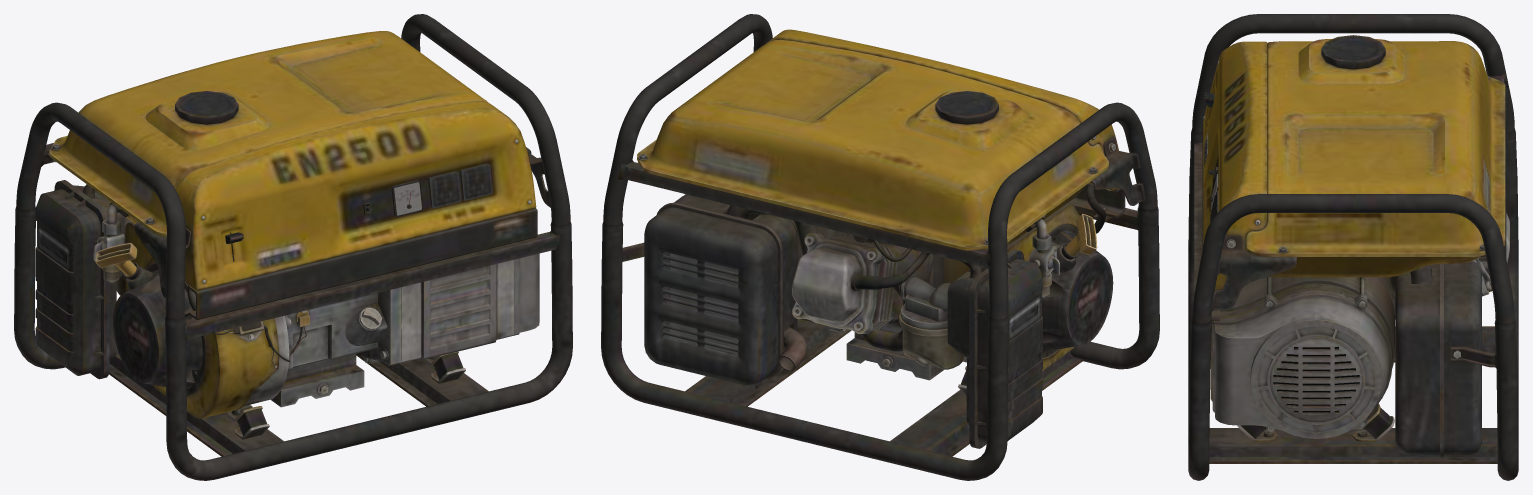
The picture shows the model from 3 angles, left to right: view 1: azimuth 30°, elevation 25°; view 2: azimuth 150°, elevation 25°; view 3: azimuth 270°, elevation 25°; orthographic projection.
Parts seen in each view (by area): view 1: portable_generator; view 2: portable_generator; view 3: portable_generator.
Part boxes in pixels (x1,y1,x2,y2): portable_generator: (14, 14, 572, 480); portable_generator: (601, 14, 1159, 480); portable_generator: (1188, 14, 1518, 480).
Size of the model in its own units: 0.8183 by 0.5769 by 0.564.
Materials: 2 (2 with a texture image).
